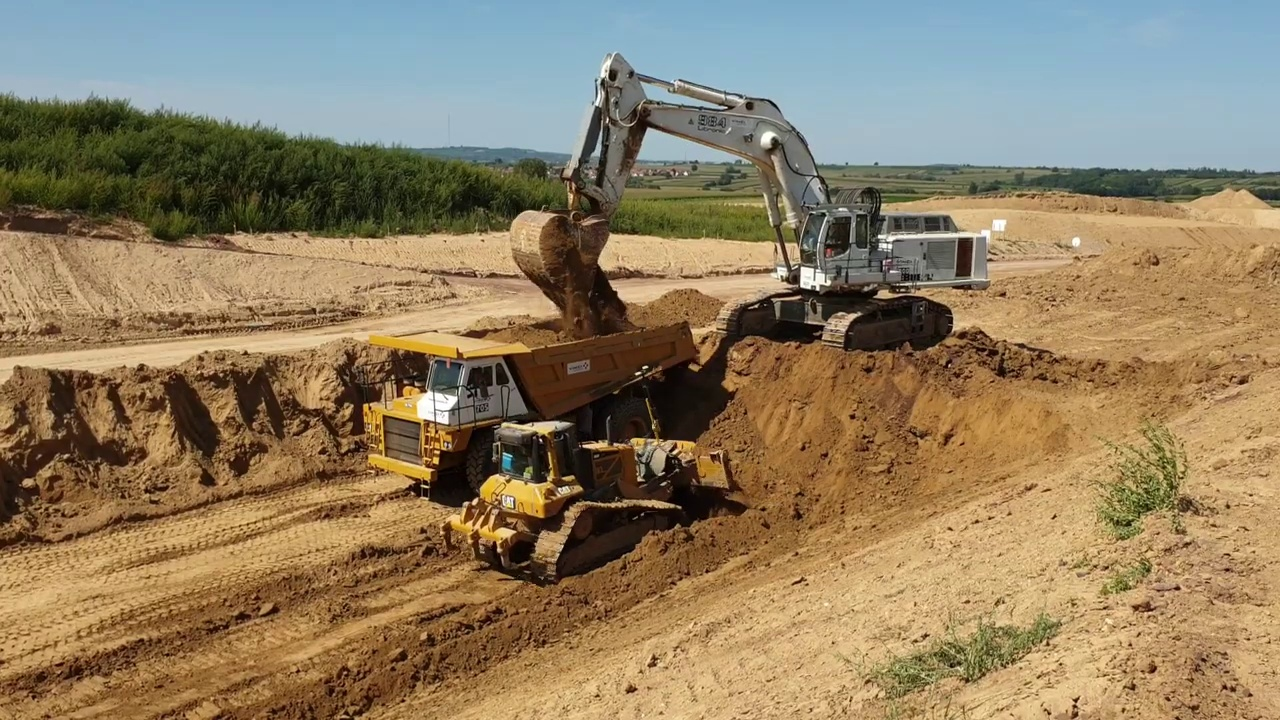bulldozer: (442, 368, 742, 585)
excavator: (502, 47, 994, 361)
truck: (349, 310, 702, 509)
